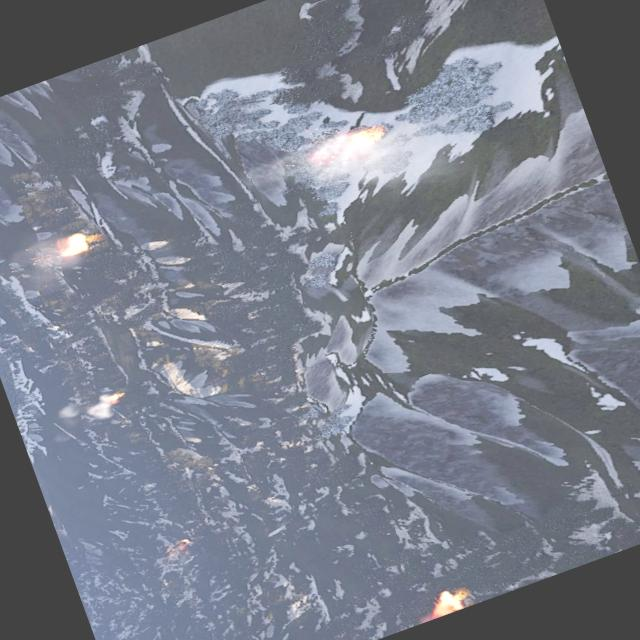fire: (306, 116, 392, 172), (411, 582, 474, 624), (56, 229, 92, 259), (162, 536, 193, 558), (106, 388, 126, 404)
smoke: (268, 79, 509, 230), (8, 230, 85, 299), (56, 389, 118, 436)
